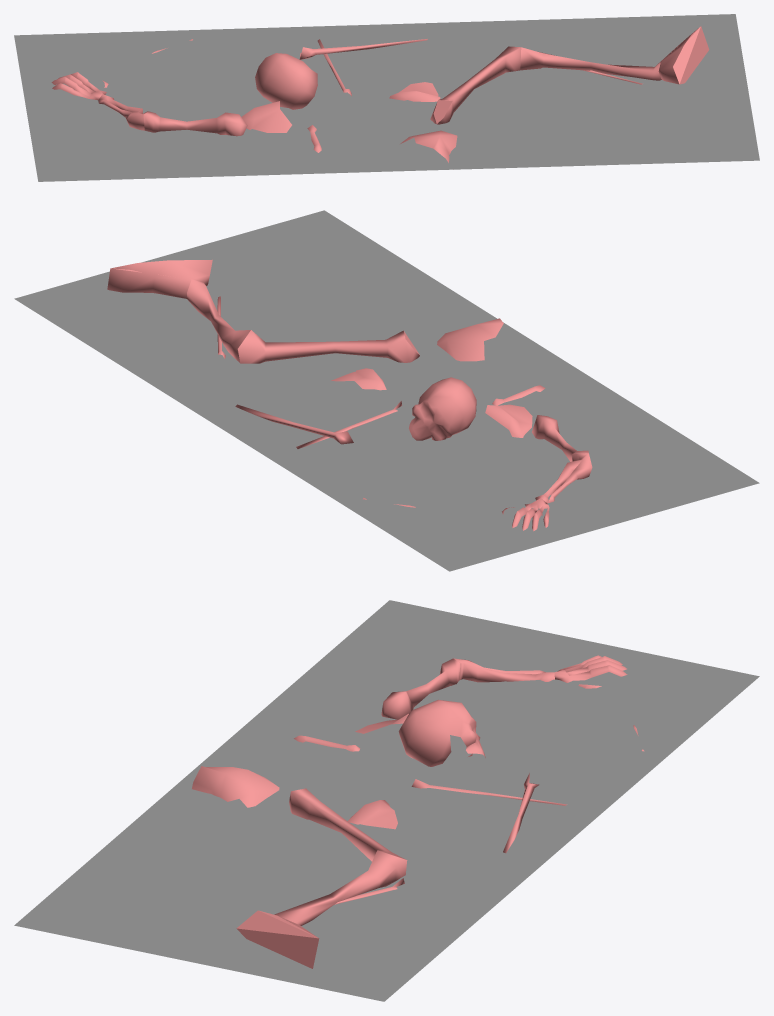
The model's file is field_deco_S__skeleton05.gltf.
The picture shows the model from 3 angles, top to bottom: view 1: azimuth 30°, elevation 25°; view 2: azimuth 150°, elevation 25°; view 3: azimuth 270°, elevation 25°; orthographic projection. The views are drawn at different scales.
Parts seen in each view (by area): view 1: skeleton05; view 2: skeleton05; view 3: skeleton05.
Boxes of the visible parts, <box> form: skeleton05: <box>14,14,759,181</box>; skeleton05: <box>14,210,759,571</box>; skeleton05: <box>14,600,759,1001</box>.
Size of the model in its own units: 0.6404 by 0.0545 by 0.5024.
